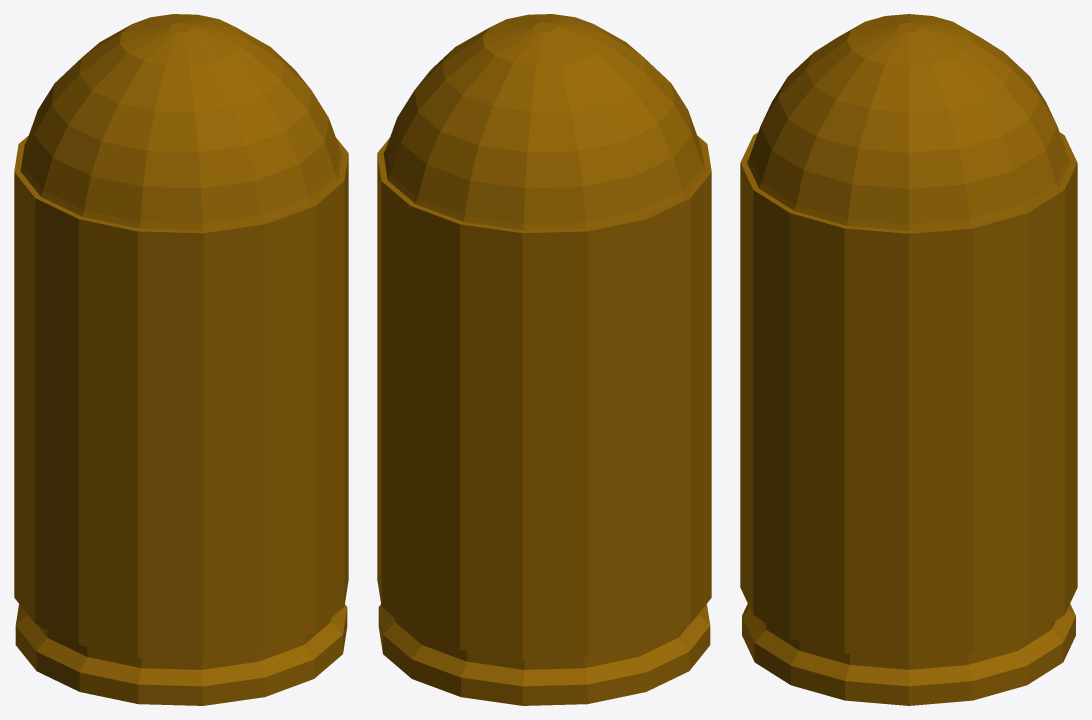
File: Weapon Ammo Props.fbx_Pistol_Ammo.fbx
3 views of the same model, side by side, from view 1: azimuth 30°, elevation 25°; view 2: azimuth 150°, elevation 25°; view 3: azimuth 270°, elevation 25° (orthographic).
Visible parts, largest first — view 1: Pistol Bullet; view 2: Pistol Bullet; view 3: Pistol Bullet.
Boxes of the visible parts, left/top/right/bottom form: Pistol Bullet: left=14, top=14, right=348, bottom=705; Pistol Bullet: left=377, top=14, right=711, bottom=705; Pistol Bullet: left=740, top=14, right=1077, bottom=705.
Bounding box in the file's own units: 87.19 × 173 × 87.19.
